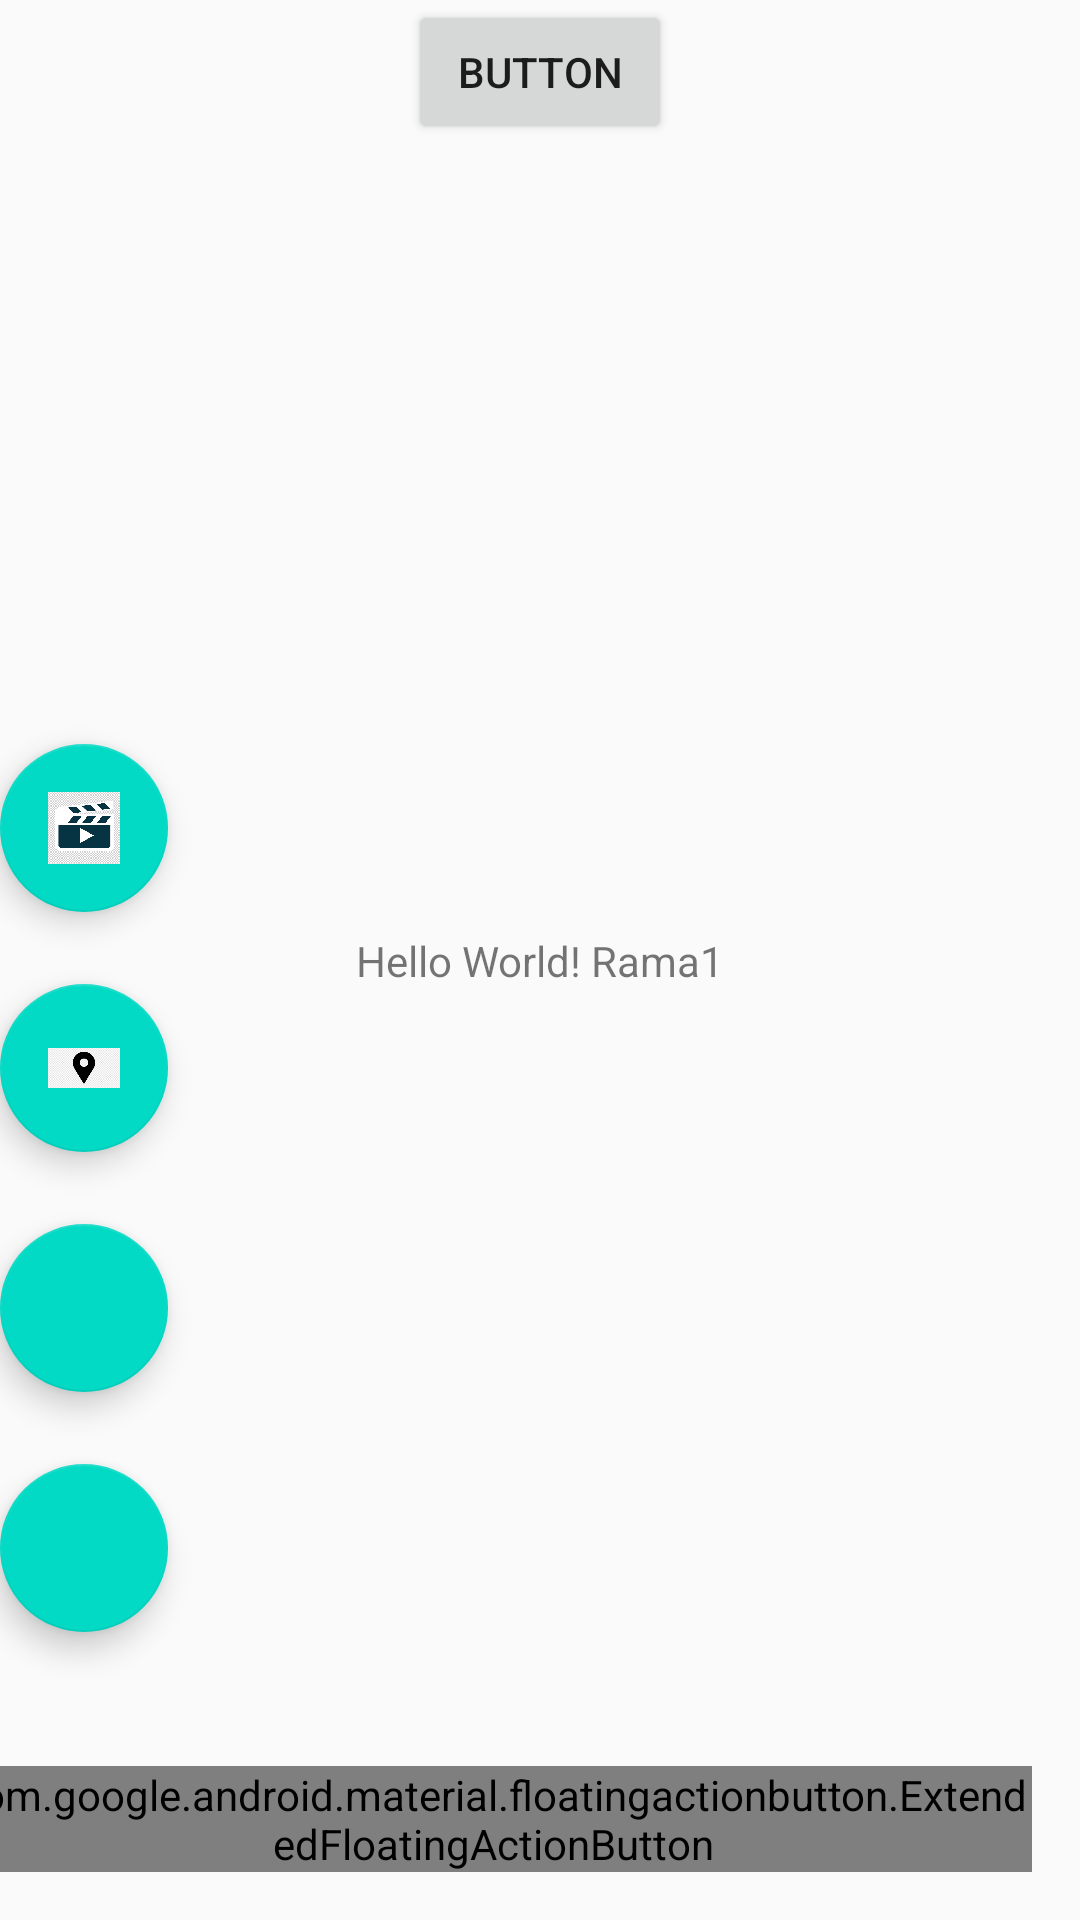

Point at icon controls on the screen. Image size 1080px×1920px, points as [x,y].
mapa: [84,1068]
video: [84,828]
